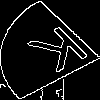K: (25, 24, 100, 81)
